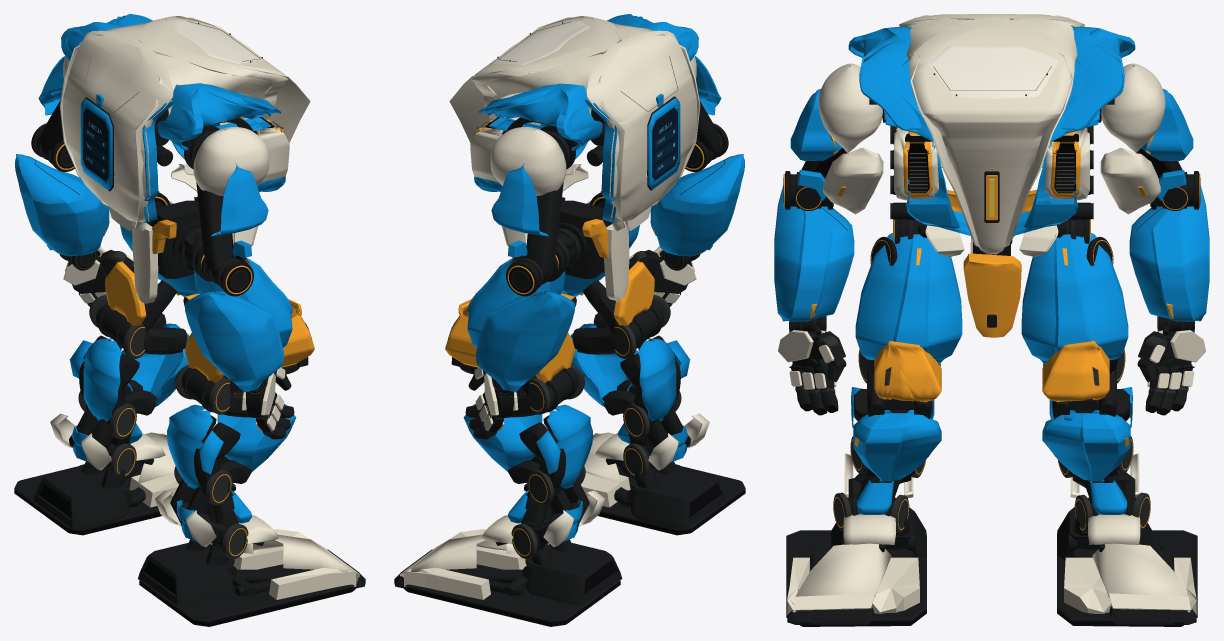
Rendered from appearance_c.glb.
The picture shows the model from 3 angles, left to right: view 1: azimuth 30°, elevation 25°; view 2: azimuth 150°, elevation 25°; view 3: azimuth 270°, elevation 25°; orthographic projection. The views are drawn at different scales.
Parts seen in each view (by area): view 1: continuous_ivory_torso_armor_cover, right_blue_forearm_wrap, left_blue_forearm_wrap, right_ivory_hood_window_side_lip, left_black_clipped_tall_heel, right_black_clipped_tall_heel, right_ivory_shoulder_cap, left_blue_middle_rear_guard_candidate, right_graphite_sole_upper_band, right_blue_deltoid_wrap, right_blue_middle_rear_guard_candidate, right_blue_thigh_wrap (+53 smaller); view 2: continuous_ivory_torso_armor_cover, left_blue_forearm_wrap, right_blue_forearm_wrap, left_ivory_hood_window_side_lip, right_black_clipped_tall_heel, left_black_clipped_tall_heel, left_ivory_shoulder_cap, right_blue_middle_rear_guard_candidate, left_graphite_sole_upper_band, left_blue_deltoid_wrap, left_blue_middle_rear_guard_candidate, left_blue_thigh_wrap (+54 smaller); view 3: continuous_ivory_torso_armor_cover, left_blue_thigh_wrap, right_blue_thigh_wrap, left_blue_forearm_wrap, right_blue_forearm_wrap, ivory_crown_inset, right_blue_middle_shank_wrap, left_blue_middle_shank_wrap, saffron_front_pelvis_cartridge, left_ivory_shoulder_cap, right_ivory_shoulder_cap, right_ivory_artwork_sloping_toe (+43 smaller).
Part boxes in pixels (left/top/right/bottom): continuous_ivory_torso_armor_cover: left=63, top=16, right=288, bottom=222; right_blue_forearm_wrap: left=184, top=291, right=283, bottom=392; left_blue_forearm_wrap: left=15, top=154, right=109, bottom=256; right_ivory_hood_window_side_lip: left=135, top=52, right=310, bottom=230; left_black_clipped_tall_heel: left=33, top=466, right=129, bottom=530; right_black_clipped_tall_heel: left=138, top=543, right=233, bottom=604; right_ivory_shoulder_cap: left=193, top=127, right=269, bottom=195; left_blue_middle_rear_guard_candidate: left=83, top=338, right=121, bottom=421; right_graphite_sole_upper_band: left=139, top=564, right=354, bottom=621; right_blue_deltoid_wrap: left=211, top=163, right=268, bottom=236; right_blue_middle_rear_guard_candidate: left=167, top=404, right=212, bottom=489; right_blue_thigh_wrap: left=194, top=257, right=292, bottom=347; continuous_ivory_torso_armor_cover: left=471, top=16, right=696, bottom=222; left_blue_forearm_wrap: left=476, top=291, right=575, bottom=392; right_blue_forearm_wrap: left=650, top=154, right=744, bottom=256; left_ivory_hood_window_side_lip: left=449, top=52, right=624, bottom=230; right_black_clipped_tall_heel: left=630, top=466, right=726, bottom=530; left_black_clipped_tall_heel: left=526, top=543, right=622, bottom=604; left_ivory_shoulder_cap: left=490, top=127, right=566, bottom=195; right_blue_middle_rear_guard_candidate: left=638, top=338, right=676, bottom=421; left_graphite_sole_upper_band: left=405, top=564, right=620, bottom=621; left_blue_deltoid_wrap: left=491, top=163, right=548, bottom=236; left_blue_middle_rear_guard_candidate: left=547, top=404, right=592, bottom=488; left_blue_thigh_wrap: left=467, top=257, right=565, bottom=347; continuous_ivory_torso_armor_cover: left=899, top=14, right=1084, bottom=254; left_blue_thigh_wrap: left=1021, top=233, right=1128, bottom=364; right_blue_thigh_wrap: left=855, top=233, right=962, bottom=364; left_blue_forearm_wrap: left=1129, top=185, right=1209, bottom=321; right_blue_forearm_wrap: left=774, top=185, right=854, bottom=321; ivory_crown_inset: left=929, top=45, right=1058, bottom=98; right_blue_middle_shank_wrap: left=853, top=410, right=941, bottom=481; left_blue_middle_shank_wrap: left=1042, top=410, right=1130, bottom=481; saffron_front_pelvis_cartridge: left=963, top=253, right=1021, bottom=337; left_ivory_shoulder_cap: left=1101, top=63, right=1165, bottom=153; right_ivory_shoulder_cap: left=818, top=63, right=882, bottom=153; right_ivory_artwork_sloping_toe: left=795, top=543, right=891, bottom=597.
Bounding box in the file's own units: 1.07 × 2.65 × 1.93.
